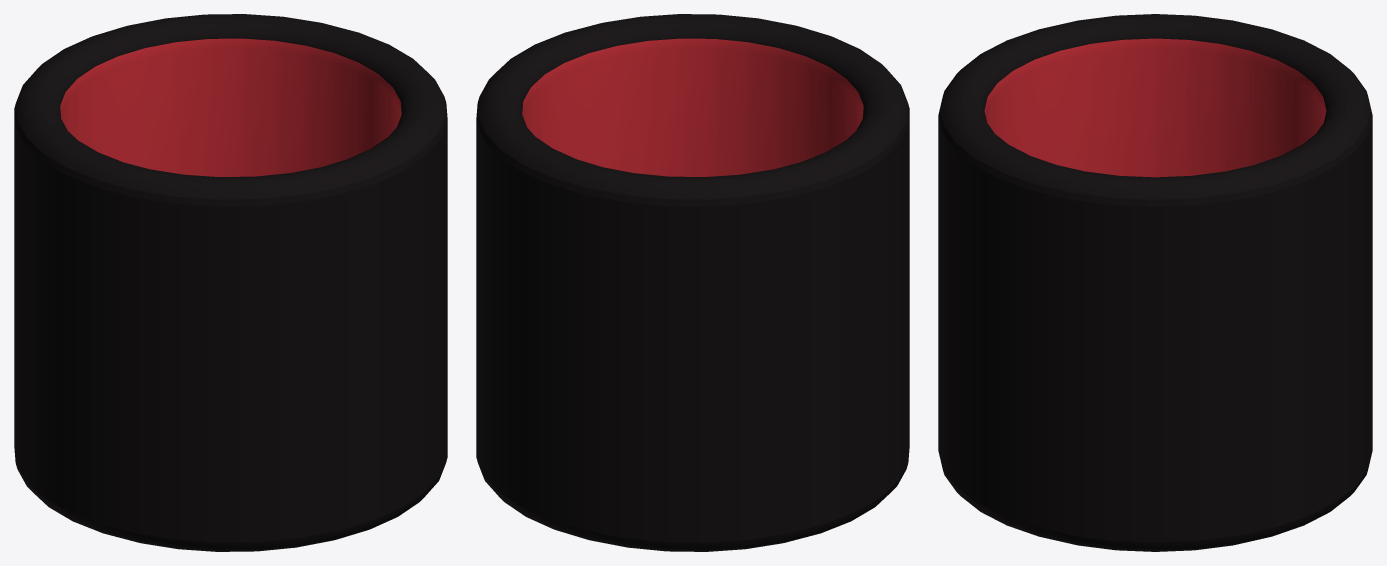
File: DiceCup.fbx
3 renders of one model, left to right at view 1: azimuth 30°, elevation 25°; view 2: azimuth 150°, elevation 25°; view 3: azimuth 270°, elevation 25°, orthographic.
Visible parts, largest first — view 1: Cylinder; view 2: Cylinder; view 3: Cylinder.
Boxes of the visible parts, x1,y1,x2,y2 form: Cylinder: [14, 14, 447, 551]; Cylinder: [476, 14, 909, 551]; Cylinder: [938, 14, 1372, 551].
Bounding box in the file's own units: 5 × 4.69 × 5.
